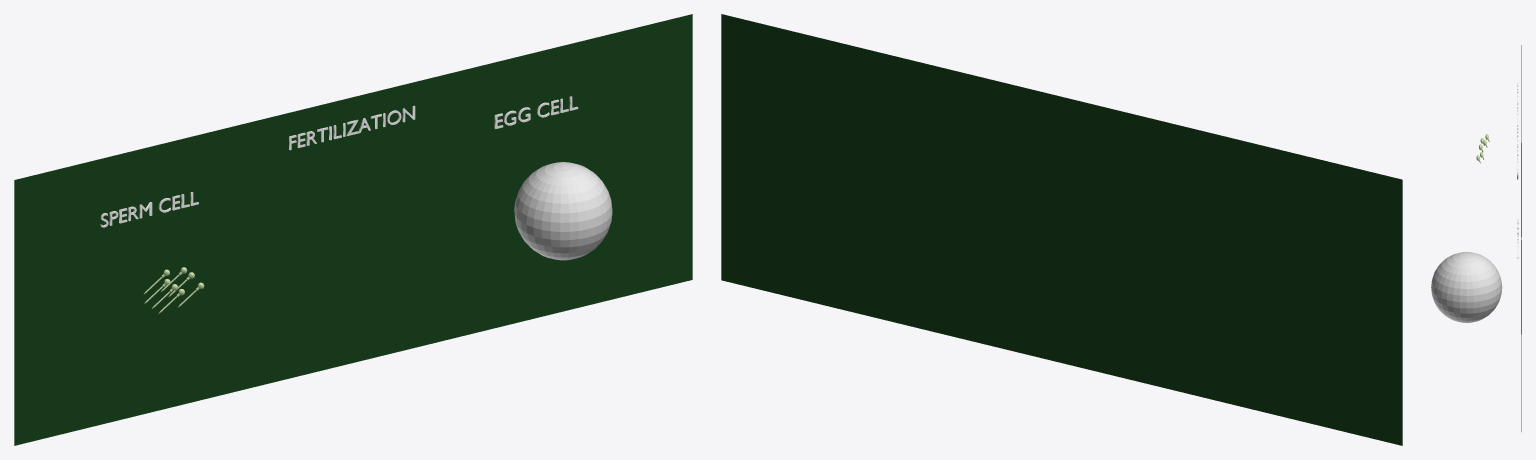
The model's file is spermegg.gltf.
The picture shows the model from 3 angles, left to right: view 1: azimuth 30°, elevation 25°; view 2: azimuth 150°, elevation 25°; view 3: azimuth 270°, elevation 25°; orthographic projection. The views are drawn at different scales.
Parts seen in each view (by area): view 1: Plane.013, Sphere, Text.001, Text.008, Text.009; view 2: Plane.013; view 3: Sphere, Plane.013.
Boxes of the visible parts, x1,y1,x2,y2 form: Plane.013: (14, 14, 692, 445); Sphere: (514, 162, 612, 260); Text.001: (289, 105, 415, 150); Text.008: (100, 192, 198, 227); Text.009: (494, 96, 578, 128); Plane.013: (721, 14, 1402, 445); Sphere: (1431, 252, 1502, 322); Plane.013: (1521, 45, 1521, 431).
Bounding box in the file's own units: 15.94 × 5.96 × 2.55.
